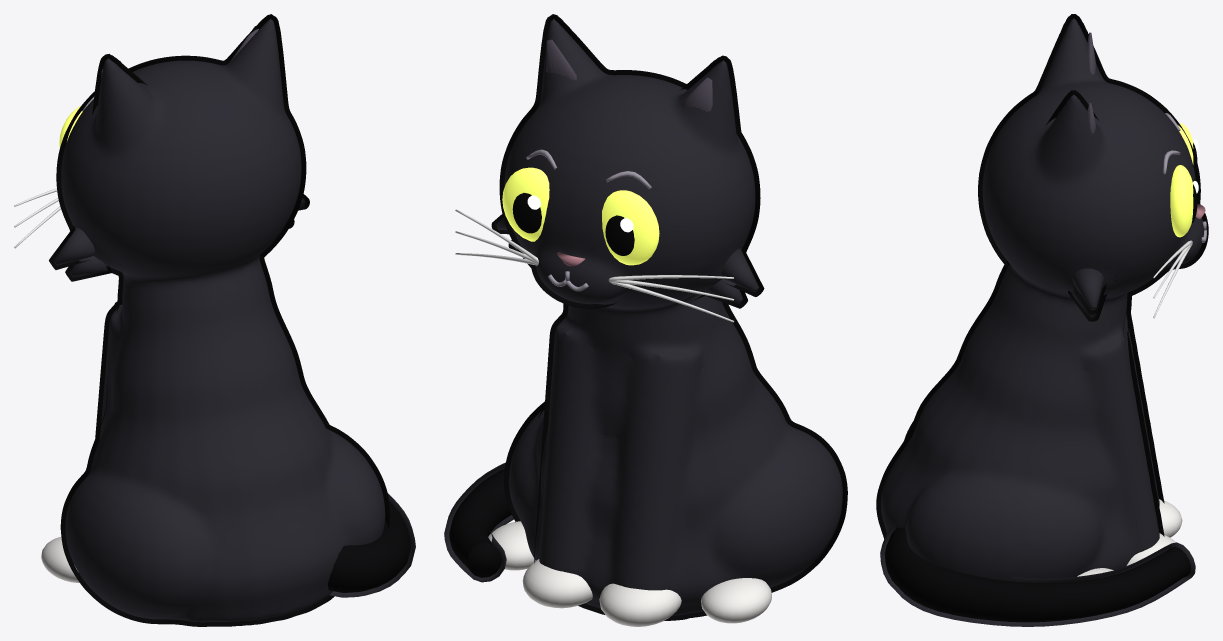
The model's file is cat.glb.
3 views of the same model, side by side, from view 1: azimuth 30°, elevation 25°; view 2: azimuth 150°, elevation 25°; view 3: azimuth 270°, elevation 25° (orthographic). The views are drawn at different scales.
Visible parts, largest first — view 1: CatBody, Tail; view 2: CatBody, Tail; view 3: CatBody, Tail.
Part boxes in pixels (x1,y1,x2,y2): CatBody: (14, 14, 389, 626); Tail: (327, 493, 415, 597); CatBody: (455, 14, 847, 626); Tail: (444, 462, 513, 582); CatBody: (876, 14, 1208, 582); Tail: (880, 522, 1195, 626).
Size of the model in its own units: 0.467 by 0.7343 by 0.4323.
